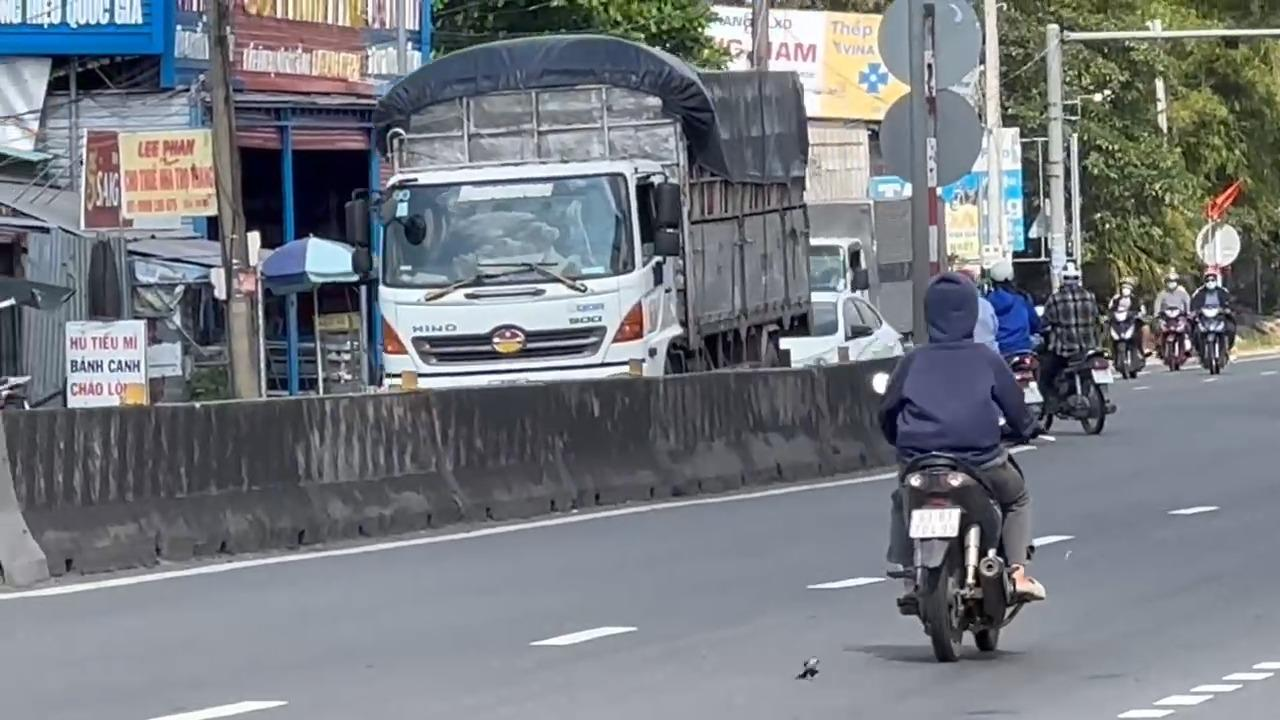bien_so: (907, 505, 961, 539)
